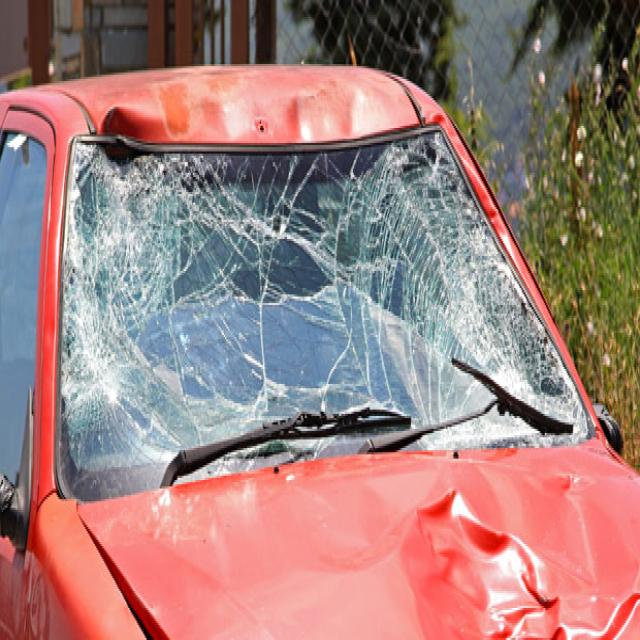crush: (32, 59, 640, 640)
